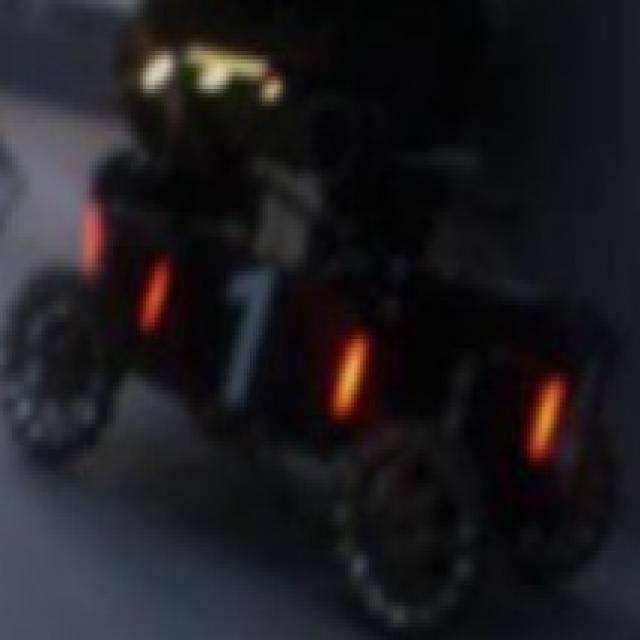R1: (131, 246, 369, 428)
